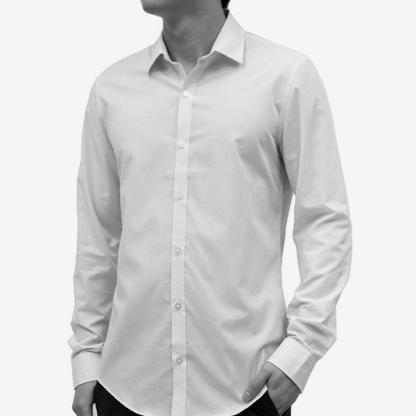dress: (71, 7, 353, 416)
